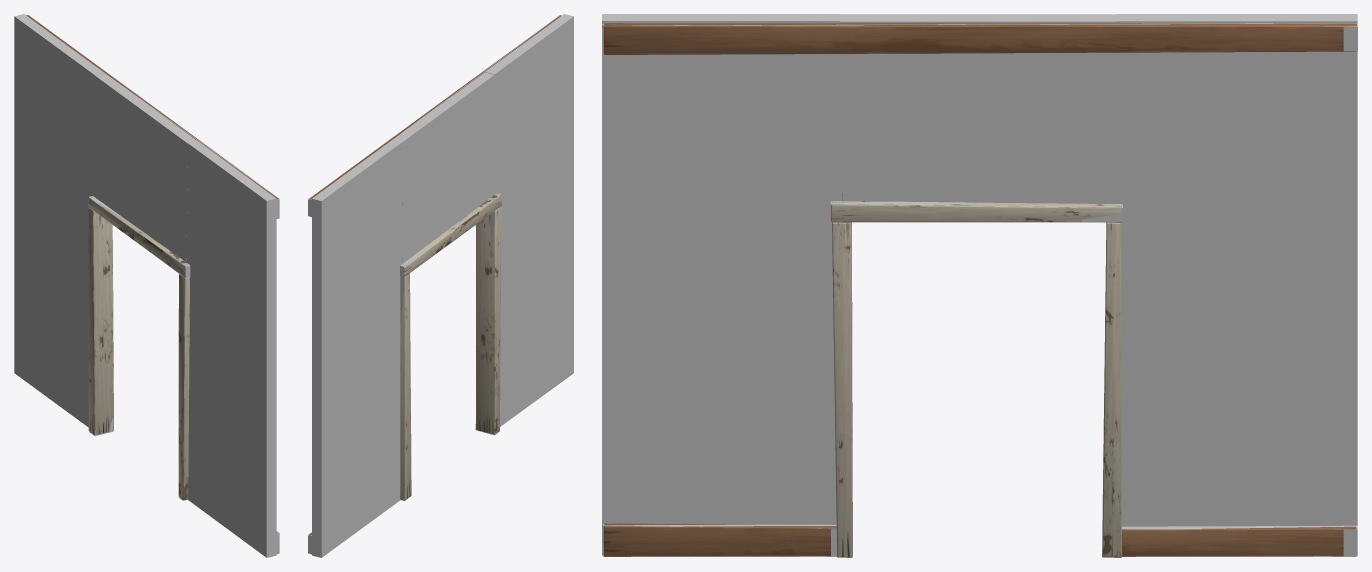
File: SM_Hangar01WD_1.fbx
The picture shows the model from 3 angles, left to right: view 1: azimuth 30°, elevation 25°; view 2: azimuth 150°, elevation 25°; view 3: azimuth 270°, elevation 25°; orthographic projection. The views are drawn at different scales.
Parts seen in each view (by area): view 1: SM_Hangar01WD_1_ConvexHulls, SM_Hangar01WD_1; view 2: SM_Hangar01WD_1_ConvexHulls, SM_Hangar01WD_1; view 3: SM_Hangar01WD_1_ConvexHulls, SM_Hangar01WD_1.
Part boxes in pixels (left/top/right/bottom): SM_Hangar01WD_1_ConvexHulls: left=14, top=14, right=279, bottom=557; SM_Hangar01WD_1: left=26, top=15, right=278, bottom=533; SM_Hangar01WD_1_ConvexHulls: left=308, top=14, right=573, bottom=557; SM_Hangar01WD_1: left=308, top=15, right=561, bottom=534; SM_Hangar01WD_1_ConvexHulls: left=602, top=14, right=1357, bottom=557; SM_Hangar01WD_1: left=604, top=23, right=1356, bottom=557.
Bounding box in the file's own units: 20.23 × 451 × 352.
4 materials, 3 textured.
